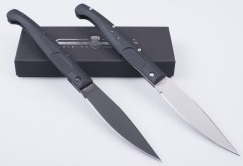knife: (156, 75, 243, 164), (82, 84, 162, 163)
